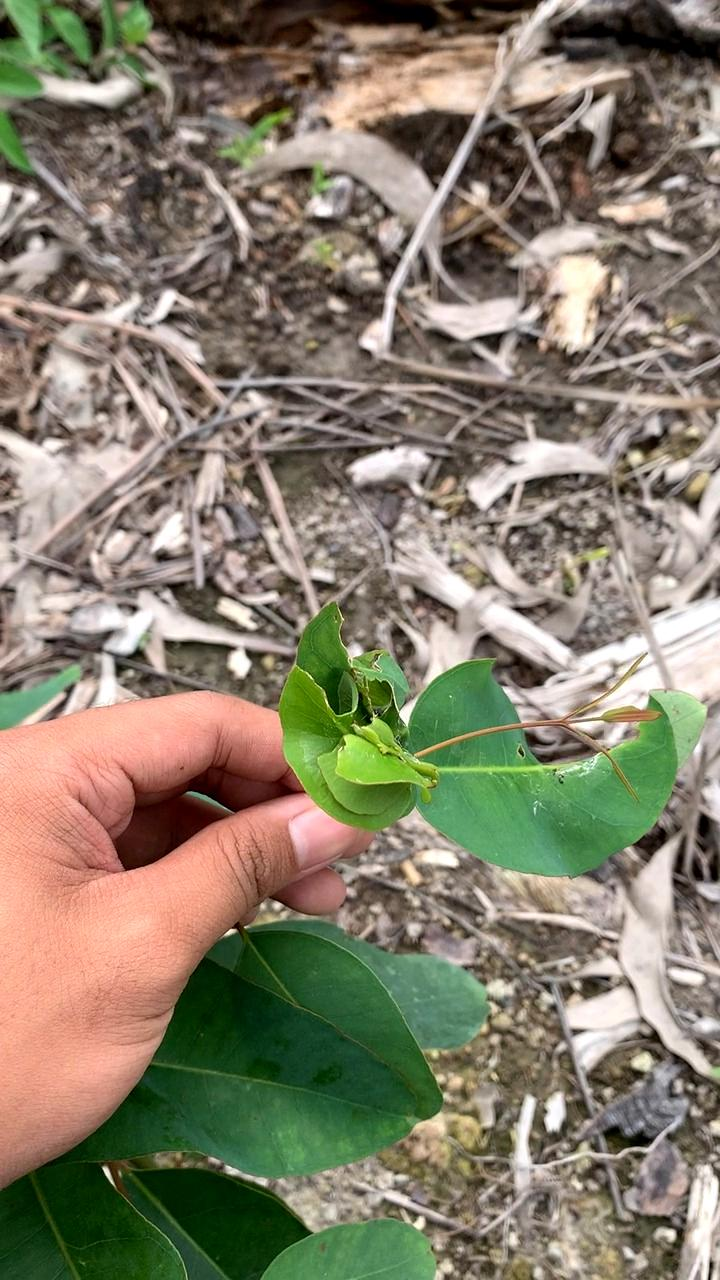Leaf Roller - Leaf: (263, 590, 458, 852)
